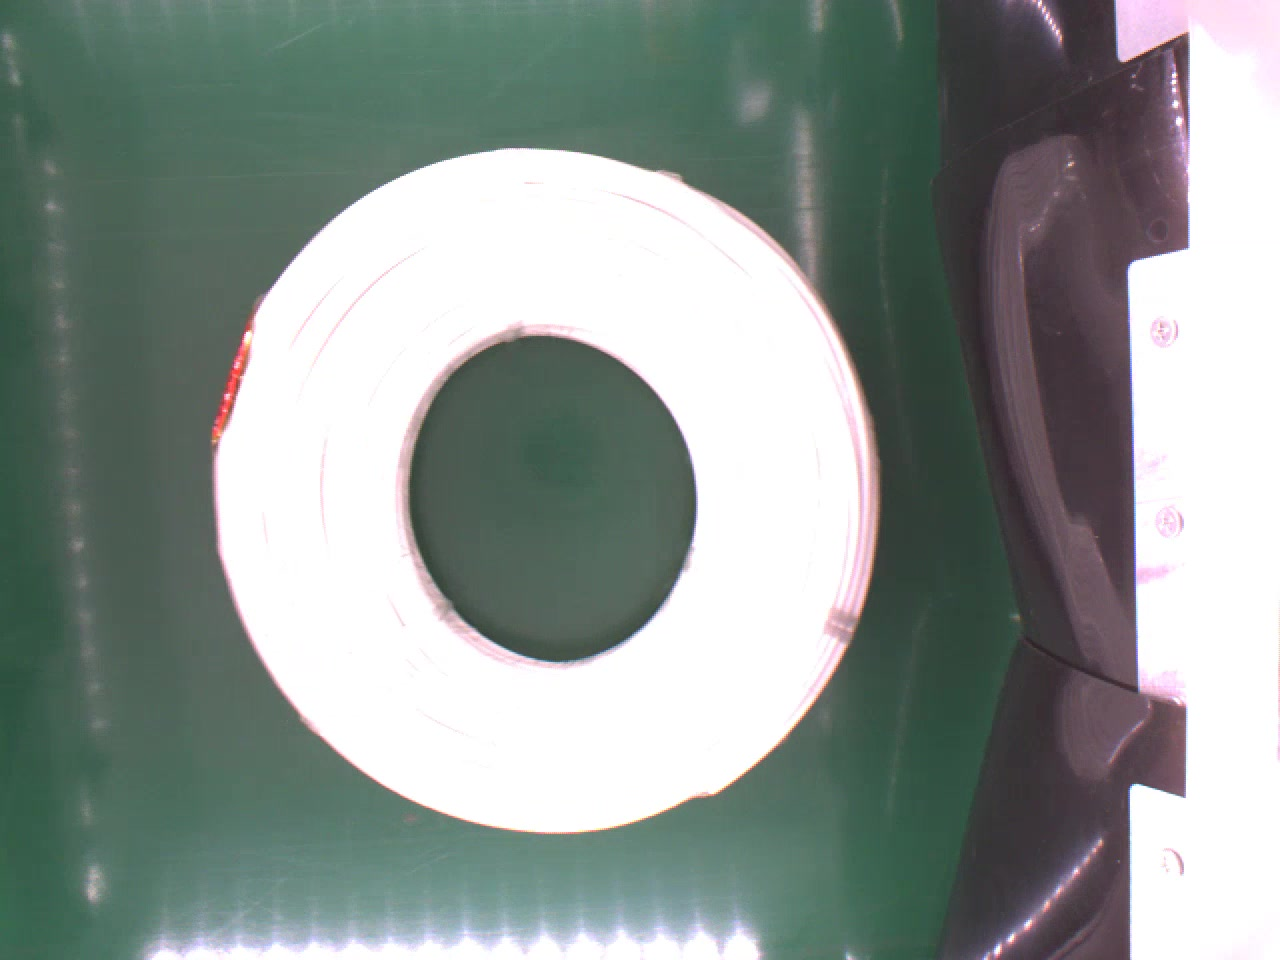white: (195, 143, 881, 838)
